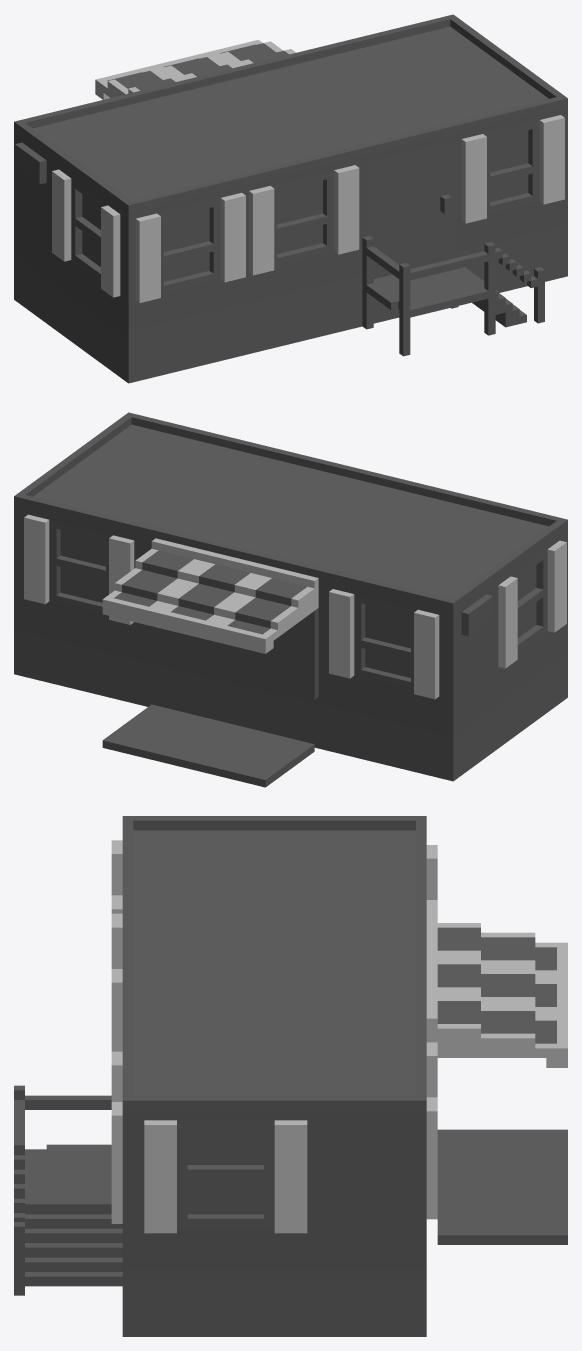
The model's file is bld_house6b.obj.
The picture shows the model from 3 angles, top to bottom: view 1: azimuth 30°, elevation 25°; view 2: azimuth 150°, elevation 25°; view 3: azimuth 270°, elevation 25°; orthographic projection. The views are drawn at different scales.
Size of the model in its own units: 64 by 24 by 51.
